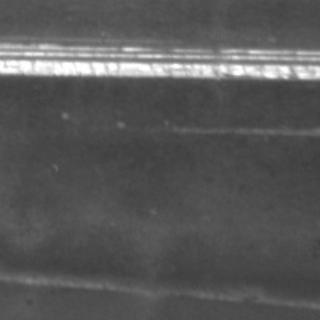scratches: (4, 268, 312, 312), (0, 38, 318, 78), (152, 116, 316, 134)
